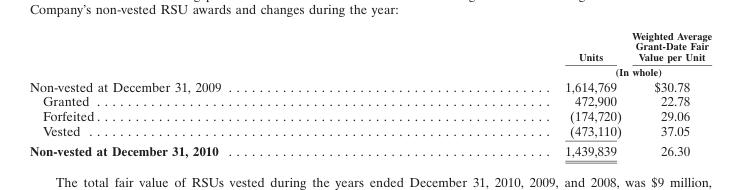table: (28, 29, 711, 158)
table column: (28, 29, 392, 158), (392, 29, 626, 158), (626, 29, 711, 158)
table column header: (28, 29, 711, 77)
table row: (28, 29, 711, 63), (28, 140, 711, 158), (28, 123, 711, 140), (28, 77, 711, 93), (28, 93, 711, 108), (28, 108, 711, 123), (28, 63, 711, 77)
table spanning cell: (392, 63, 711, 77)
